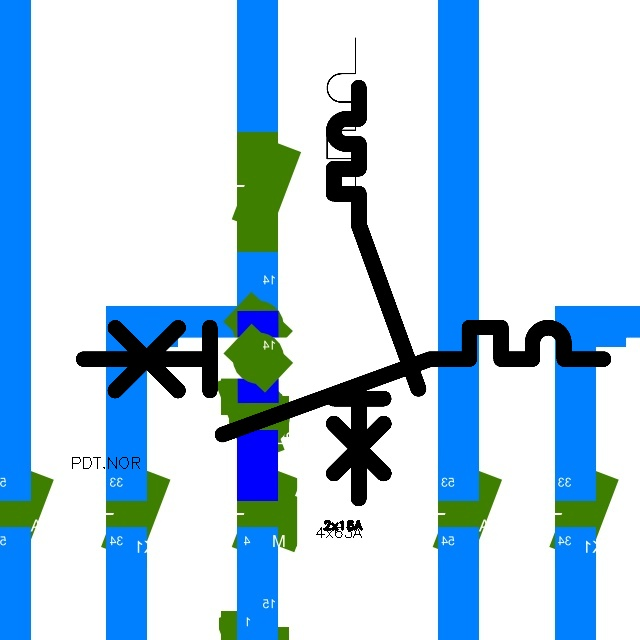interruptor_termomagnetico: (70, 314, 617, 448), (315, 26, 435, 517), (323, 77, 428, 509)
